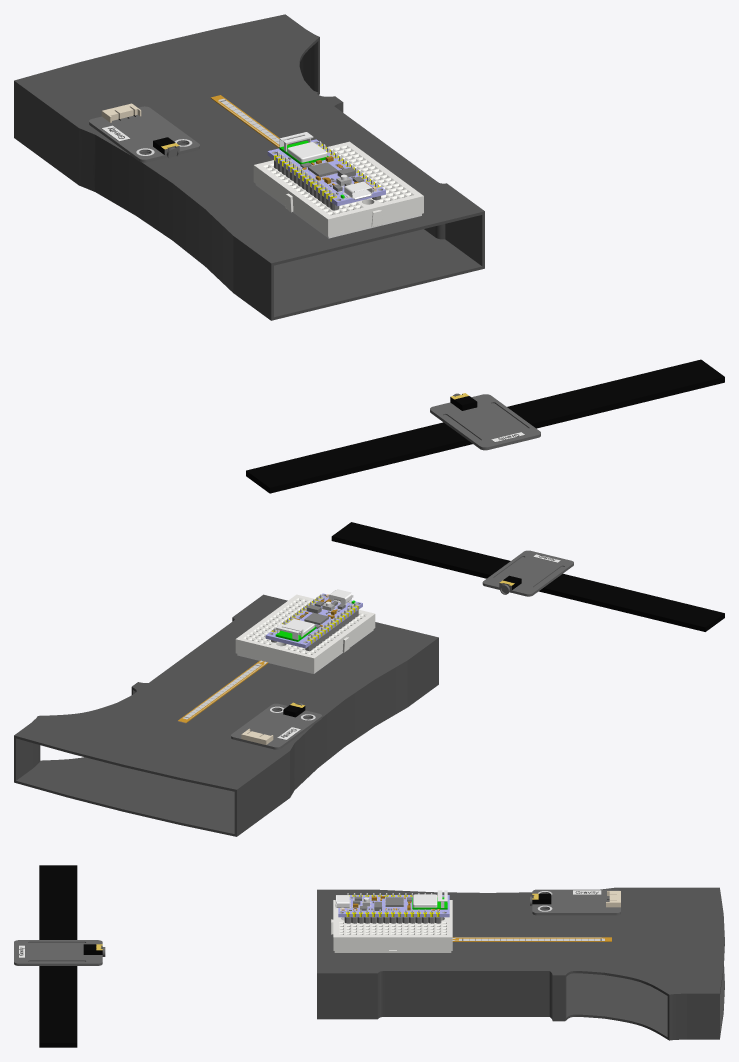
The model's file is carpalsense.glb.
The picture shows the model from 3 angles, top to bottom: view 1: azimuth 30°, elevation 25°; view 2: azimuth 150°, elevation 25°; view 3: azimuth 270°, elevation 25°; orthographic projection. The views are drawn at different scales.
Visible parts, largest first — view 1: Body1, Body1_5, Body1_1, Body1_2, Body1_4; view 2: Body1, Body1_5, Body1_1, Body1_2, Body1_4, Body1_3, Body5; view 3: Body1, Body1_5, Body1_1, Body1_2, Body1_4, Body1_3, Body4.
Boxes of the visible parts, x1,y1,x2,y2 form: Body1: (14,14,484,320); Body1_5: (246,359,724,493); Body1_1: (253,141,423,238); Body1_2: (267,132,385,206); Body1_4: (89,103,199,162); Body1: (14,594,438,836); Body1_5: (331,522,724,631); Body1_1: (235,594,375,673); Body1_2: (265,589,362,648); Body1_4: (231,702,321,749); Body1_3: (178,660,268,723); Body5: (305,605,358,651); Body1: (317,887,724,1040); Body1_5: (14,865,105,1047); Body1_1: (331,900,452,952); Body1_2: (335,890,449,917); Body1_4: (530,889,620,915); Body1_3: (452,937,611,941); Body4: (344,909,441,923).
Bounding box in the file's own units: 166 × 36.16 × 281.
